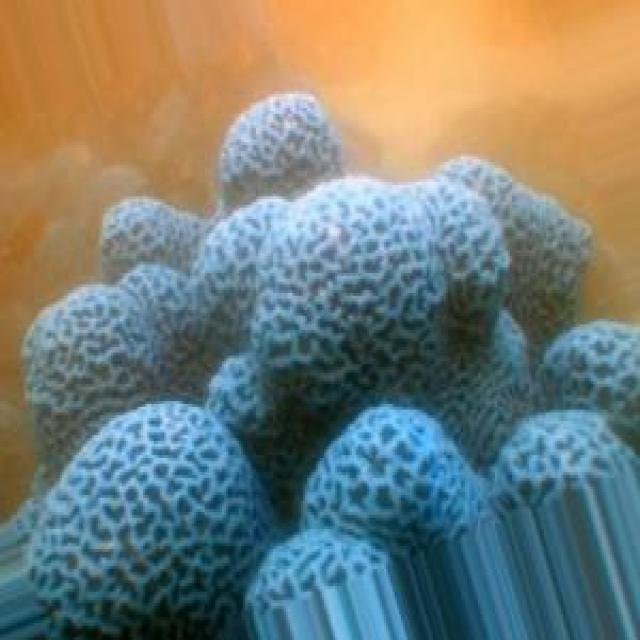Healthy: (20, 95, 640, 640), (28, 402, 279, 635), (251, 175, 446, 423), (423, 157, 596, 359), (298, 397, 495, 543), (23, 277, 170, 471), (503, 415, 640, 516), (218, 96, 341, 206), (437, 311, 525, 458), (103, 197, 223, 285), (541, 328, 640, 429), (440, 183, 502, 325)
